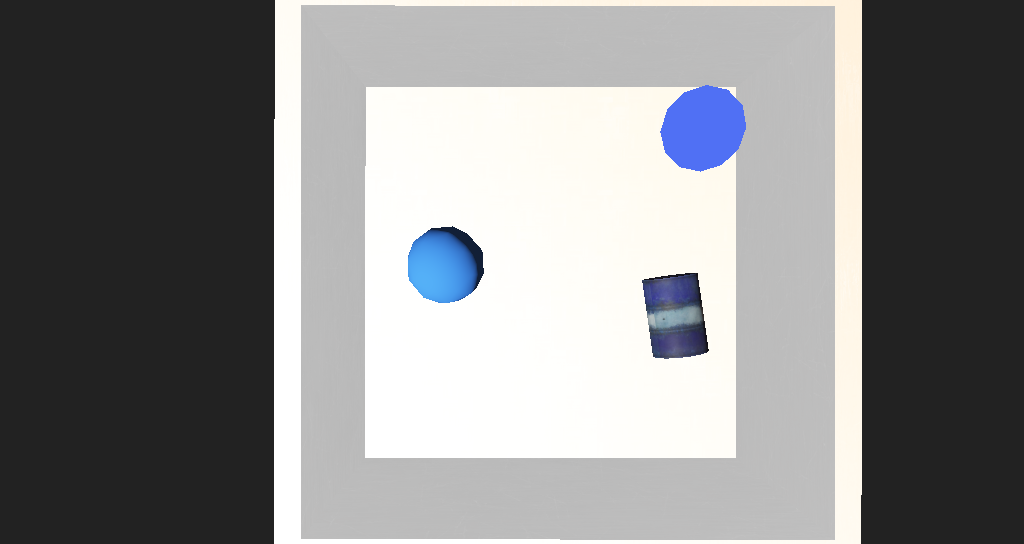cone: (576, 270, 637, 322)
cylinder: (583, 146, 657, 217)
sphere: (384, 239, 451, 286)
